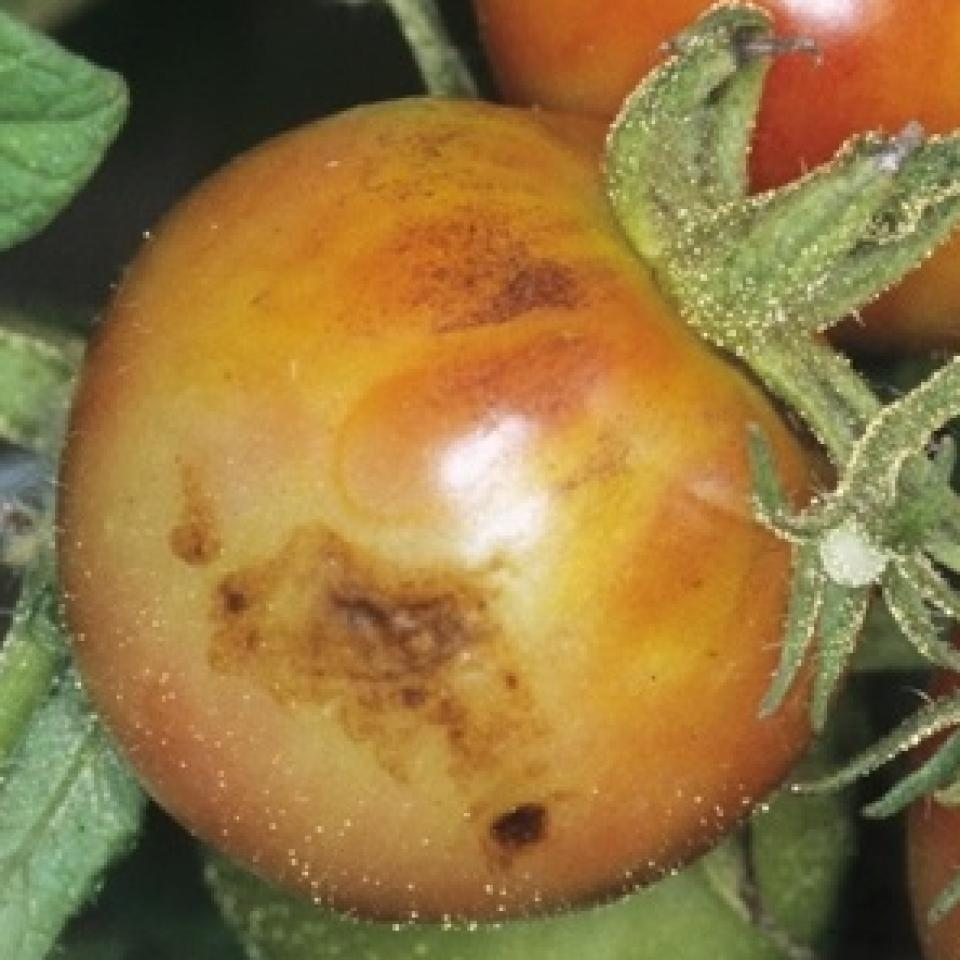Spotted wilt Virus: (51, 98, 842, 928)
